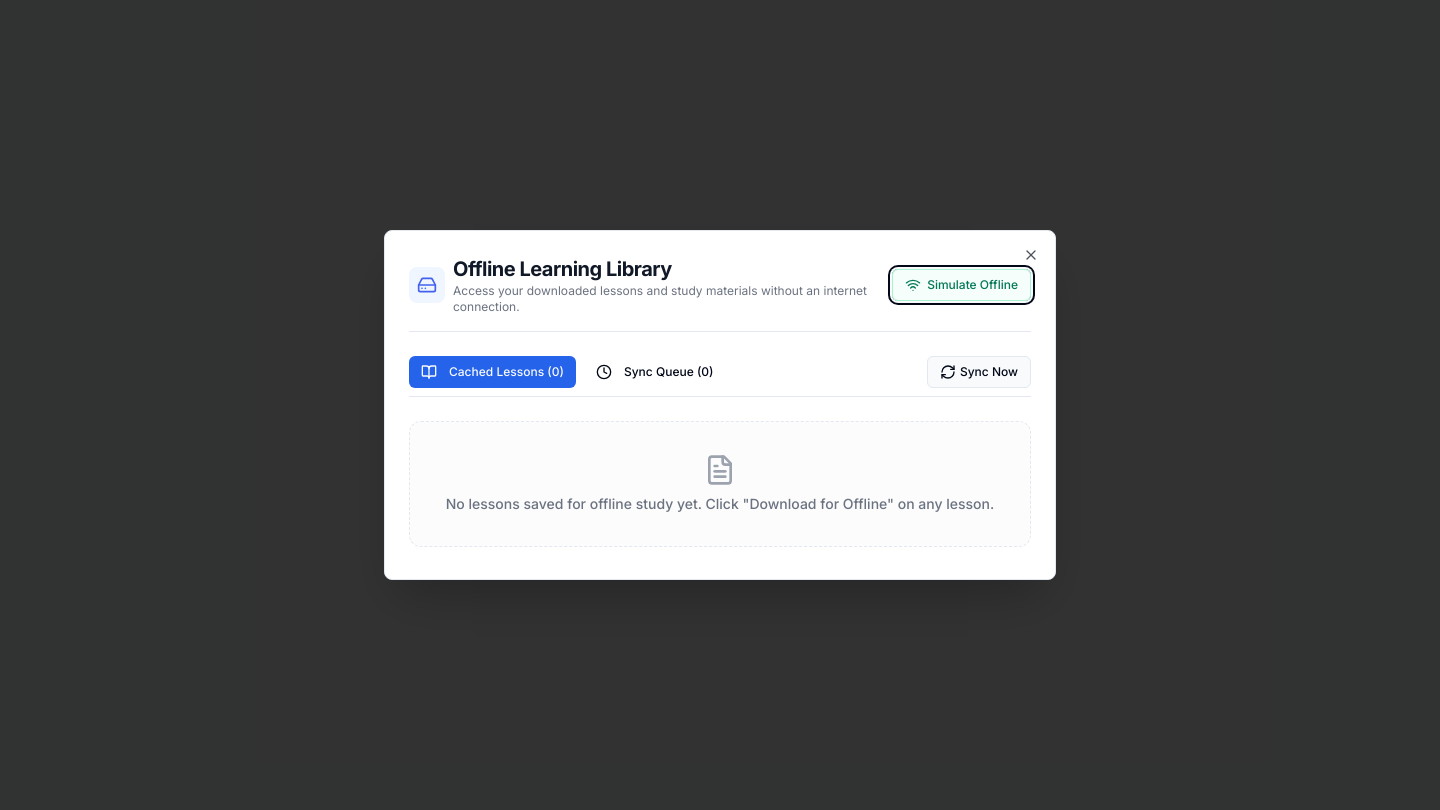
Test: OfflineLibraryModal Component › switches between Cached Lessons and Sync Queue tabs
Click the button "Sync Queue (0)".
click(655, 372)  # box [584, 356, 726, 388]
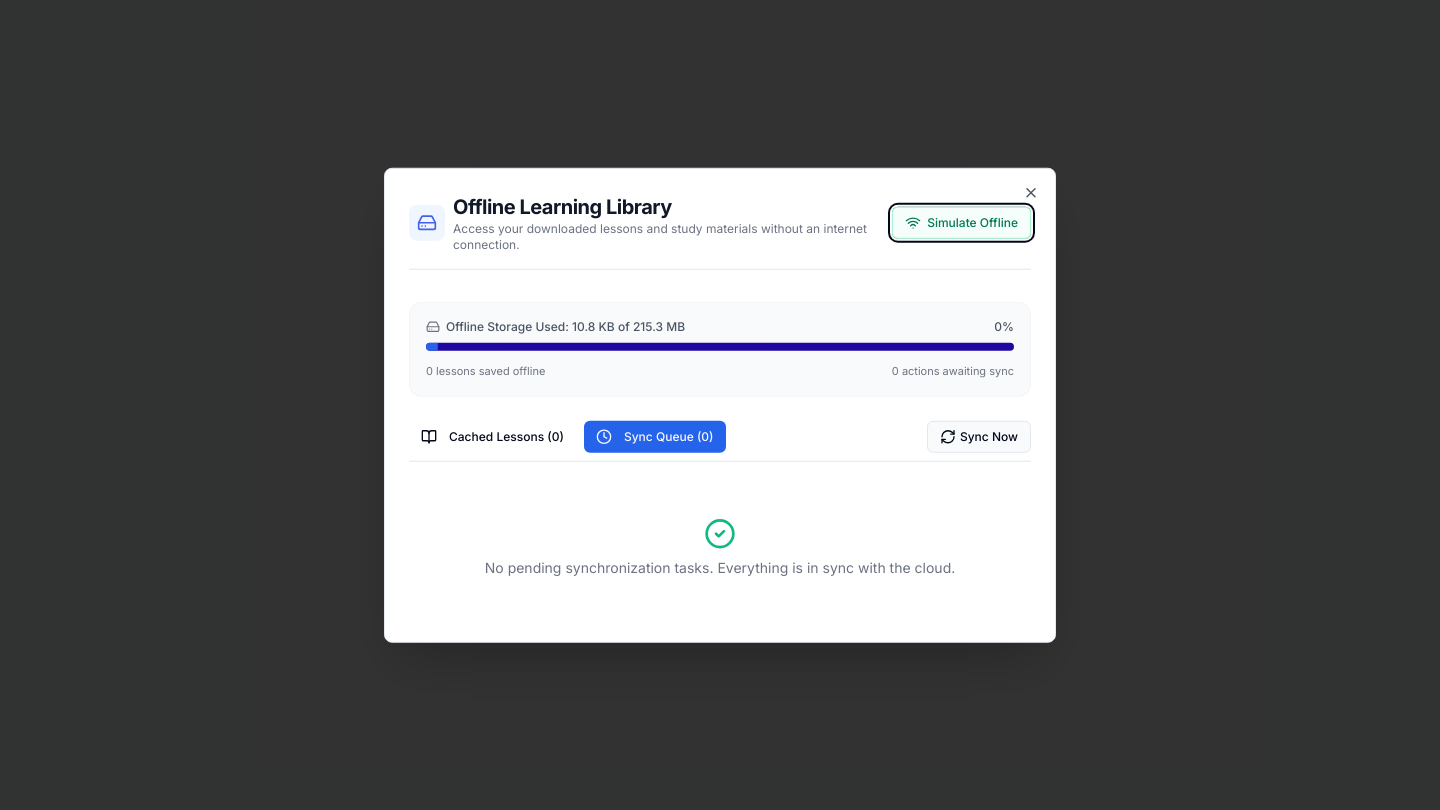
Expected: the text "No pending synchronization tasks" is shown, [485, 558, 955, 575]
